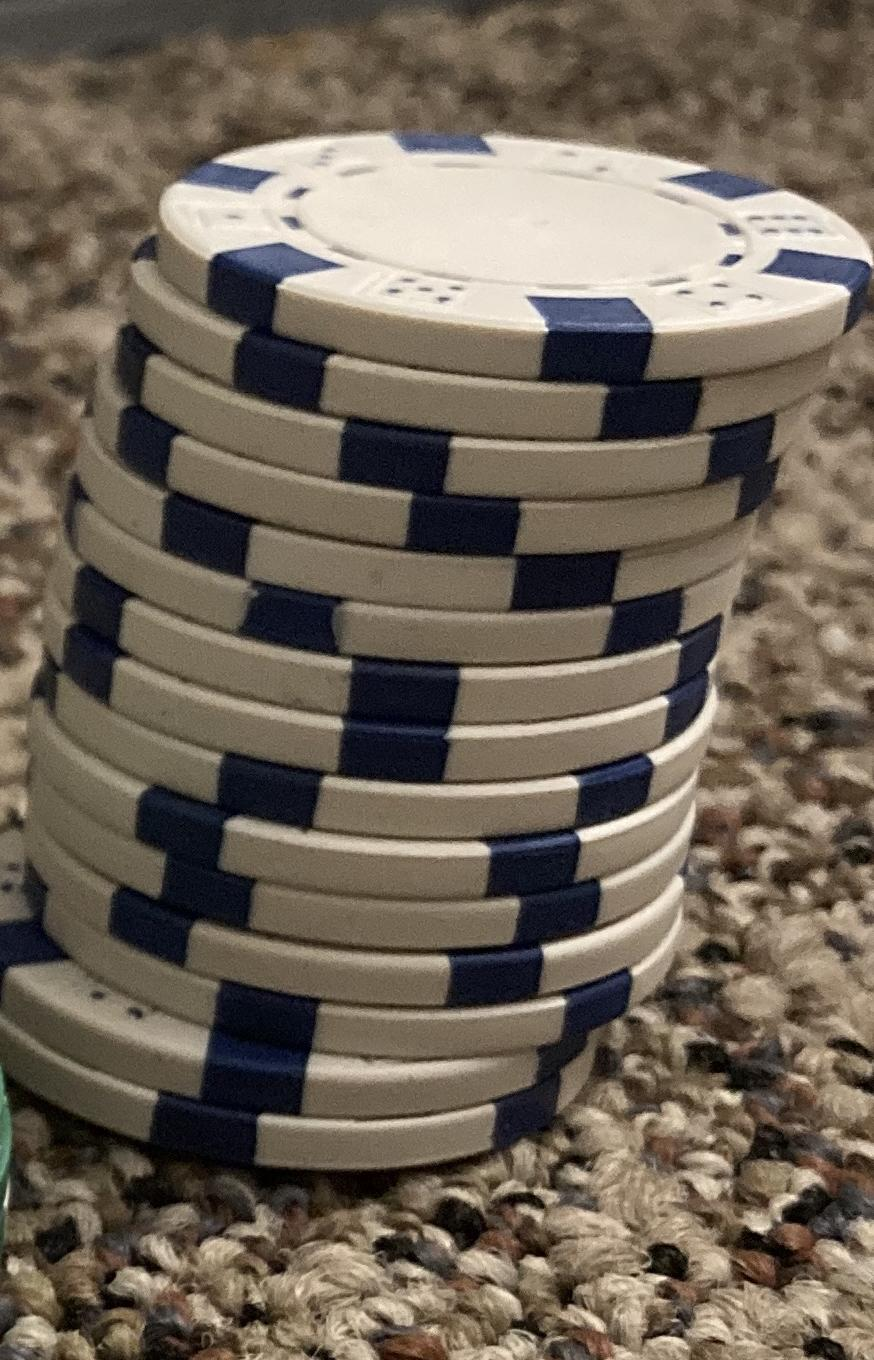Chip: (1, 1, 874, 1360)
